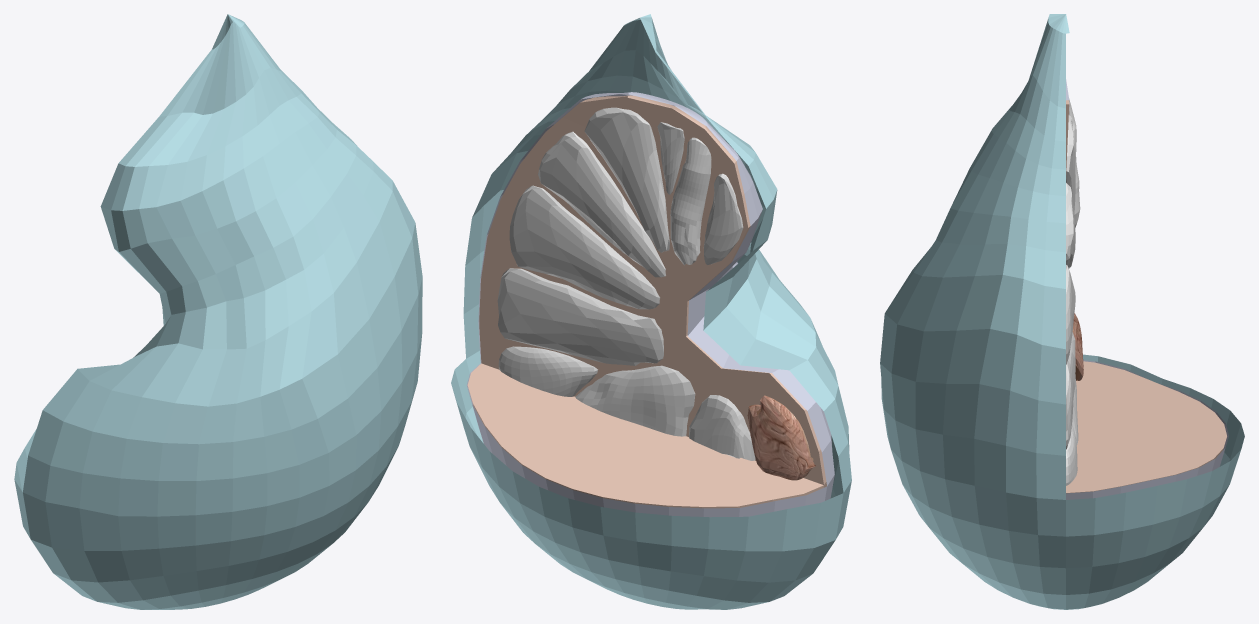
The model's file is testiculo.glb.
3 views of the same model, side by side, from view 1: azimuth 30°, elevation 25°; view 2: azimuth 150°, elevation 25°; view 3: azimuth 270°, elevation 25° (orthographic). The views are drawn at different scales.
Parts seen in each view (by area): view 1: Sphere.013; view 2: Sphere.013, Sphere.010, Sphere.008, Sphere.014, Sphere.002, Sphere.003, Sphere.004, Sphere.009, Sphere.012, Sphere.006, Sphere.001, Sphere.011 (+2 smaller); view 3: Sphere.013, Sphere.010, Sphere.014, Sphere.008, Sphere.003, Sphere.002, Sphere.004, Sphere.001, Sphere.012.
Part boxes in pixels (x1,y1,x2,y2): Sphere.013: (14,14,422,609); Sphere.013: (451,14,851,609); Sphere.010: (467,95,826,508); Sphere.008: (497,268,663,365); Sphere.014: (466,92,834,517); Sphere.002: (509,185,659,309); Sphere.003: (538,131,665,277); Sphere.004: (584,107,669,252); Sphere.009: (575,365,695,436); Sphere.012: (747,395,815,480); Sphere.006: (670,137,711,265); Sphere.001: (498,346,597,396); Sphere.011: (689,395,755,460); Sphere.013: (880,14,1244,609); Sphere.010: (1066,100,1226,493); Sphere.014: (1066,79,1228,499); Sphere.008: (1066,332,1075,449); Sphere.003: (1066,183,1075,268); Sphere.002: (1066,265,1075,364); Sphere.004: (1066,115,1075,214); Sphere.001: (1066,424,1077,485); Sphere.012: (1072,313,1083,380).
Bounding box in the file's own units: 2.77 × 3.97 × 2.22.
Materials: 4 (1 with a texture image).
